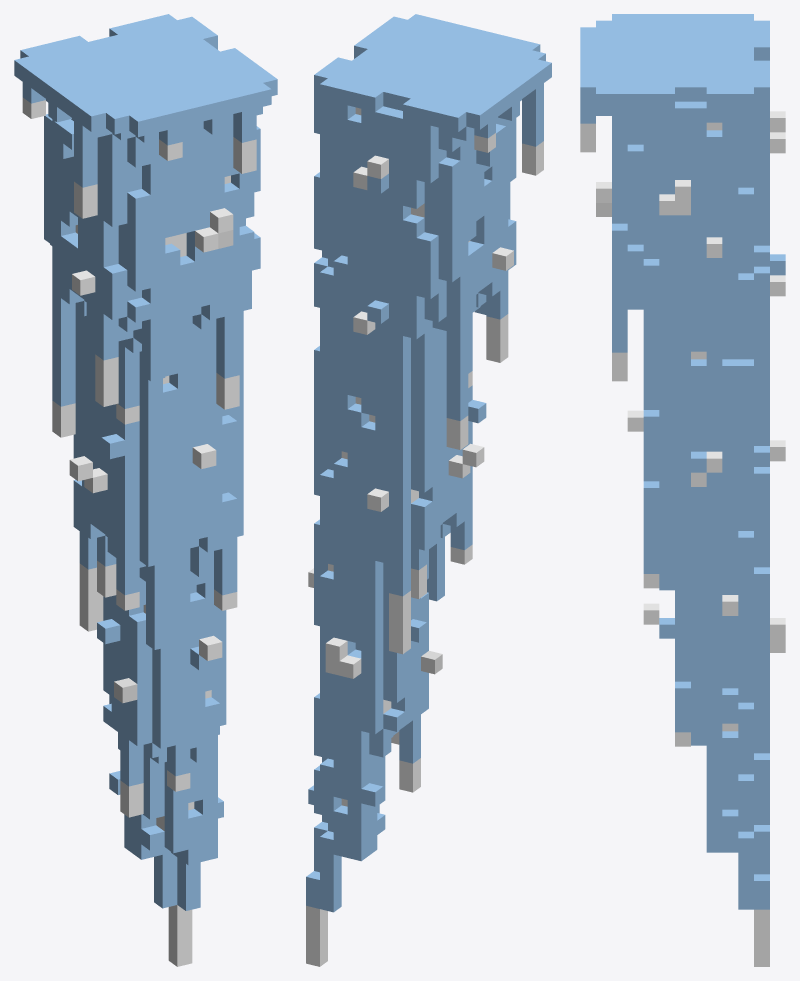
Rendered from IcycleSnowy.obj.
The picture shows the model from 3 angles, left to right: view 1: azimuth 30°, elevation 25°; view 2: azimuth 150°, elevation 25°; view 3: azimuth 270°, elevation 25°; orthographic projection. The views are drawn at different scales.
Bounding box in the file's own units: 1.3 × 6.1 × 1.3.
Materials: 1 (1 with a texture image).
